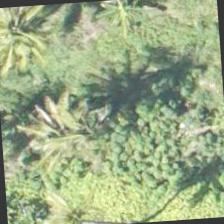Kelapa_Sawit: (0, 4, 59, 85)
